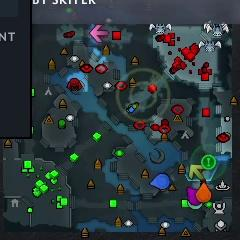Other: (201, 154, 216, 170)
p1: (149, 173, 170, 190)
p2: (188, 199, 202, 210)
p3: (186, 187, 202, 206)
p5: (197, 182, 212, 202)
x1: (89, 23, 109, 40)
x2: (189, 163, 205, 181)
